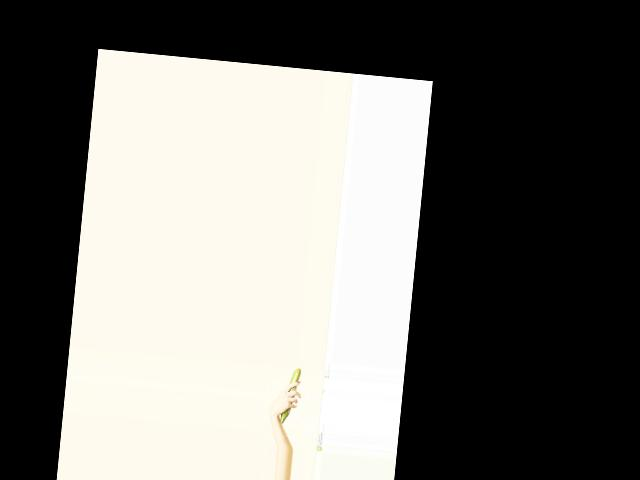cucumber: (280, 367, 302, 425)
